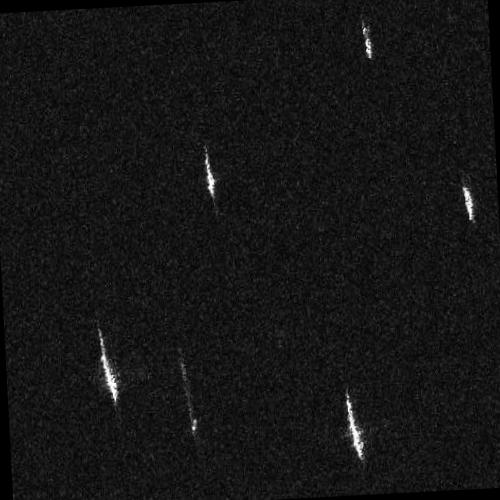ship: (97, 336, 119, 406), (343, 391, 364, 463), (181, 360, 197, 433), (203, 148, 216, 201), (461, 183, 477, 223), (360, 19, 372, 60)
